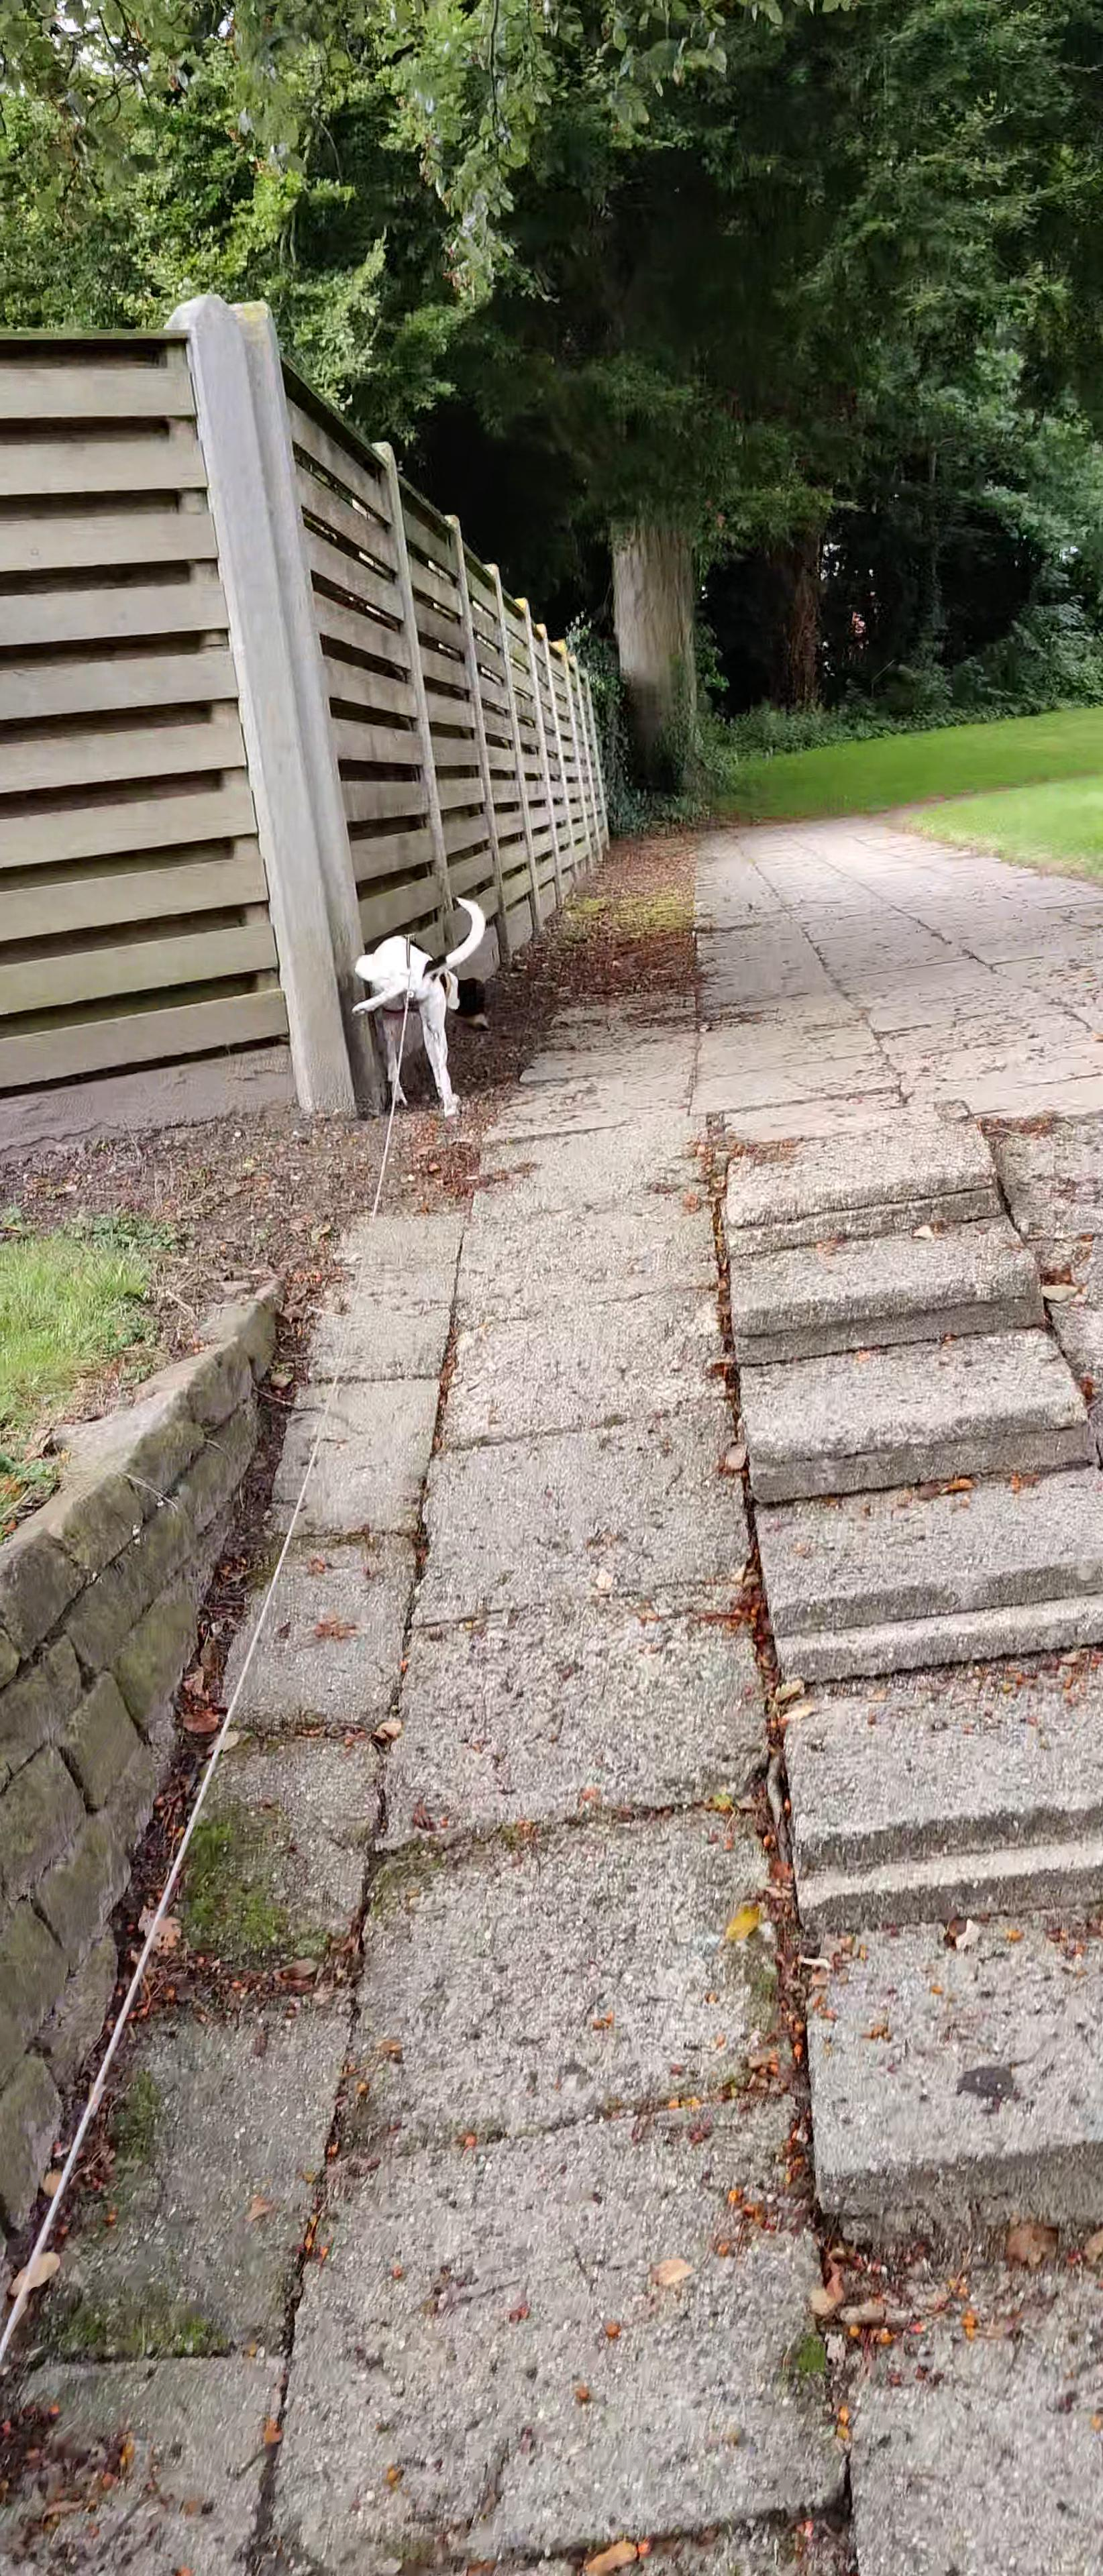Dog: (348, 892, 495, 1122)
